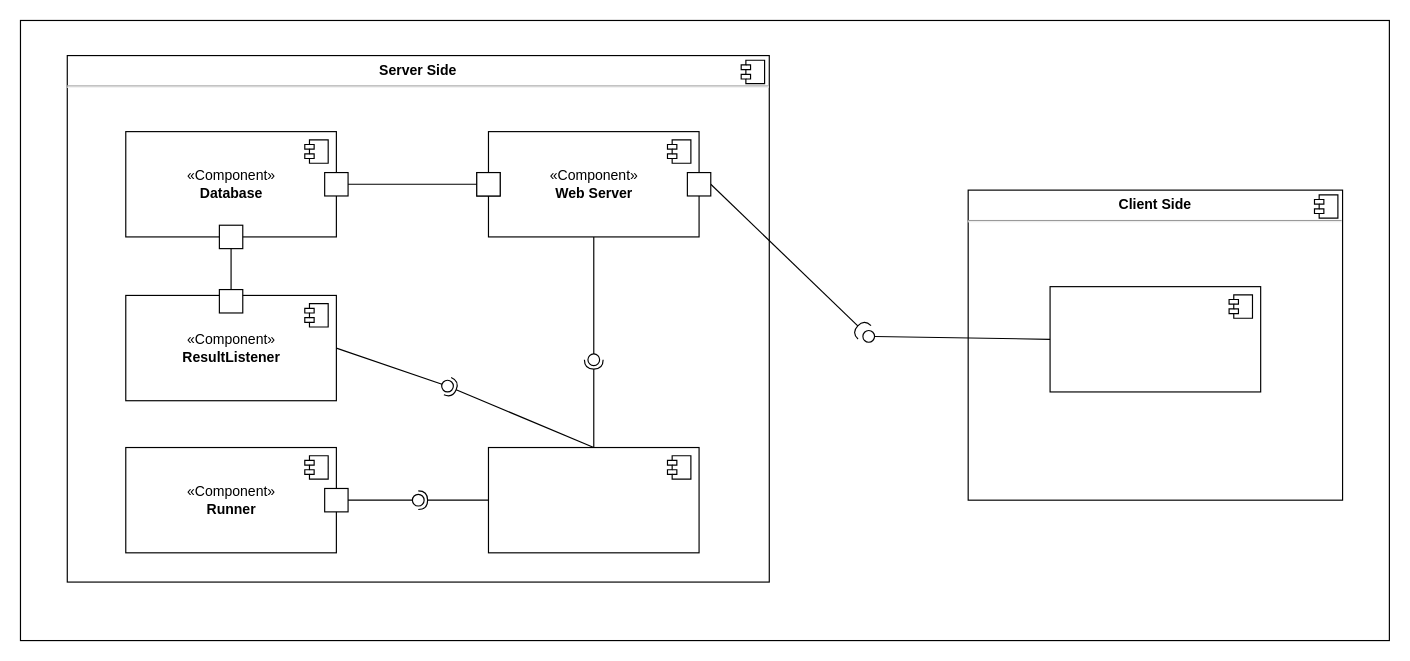
The diagram is 1410 pixels wide and 661 high, and some of its shapes have lost their labels. The centre of each missing label's shape, as x and y in pixels:
"«Component» Interface" goes at (1155,338).
"«Component» RabbitMQ" goes at (593,499).
